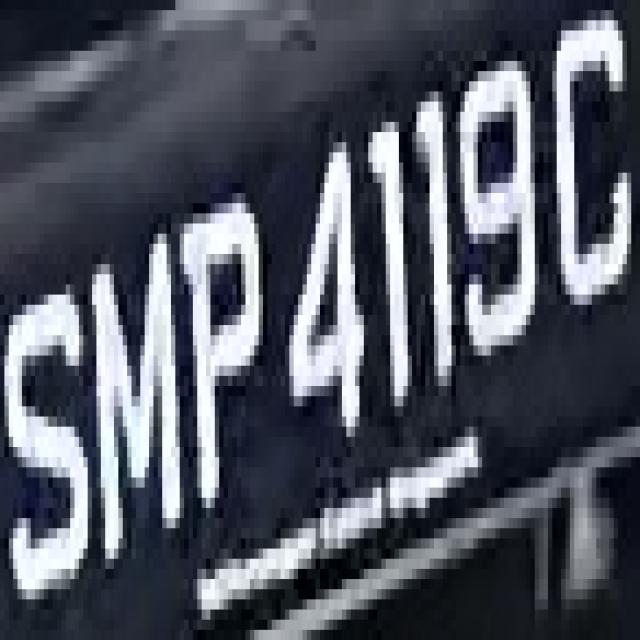1: (364, 112, 416, 437), (421, 91, 469, 416)
4: (276, 142, 377, 447)
9: (451, 41, 535, 396)
C: (543, 21, 627, 346)
M: (83, 193, 184, 569)
P: (180, 163, 267, 528)
S: (9, 244, 92, 609)
